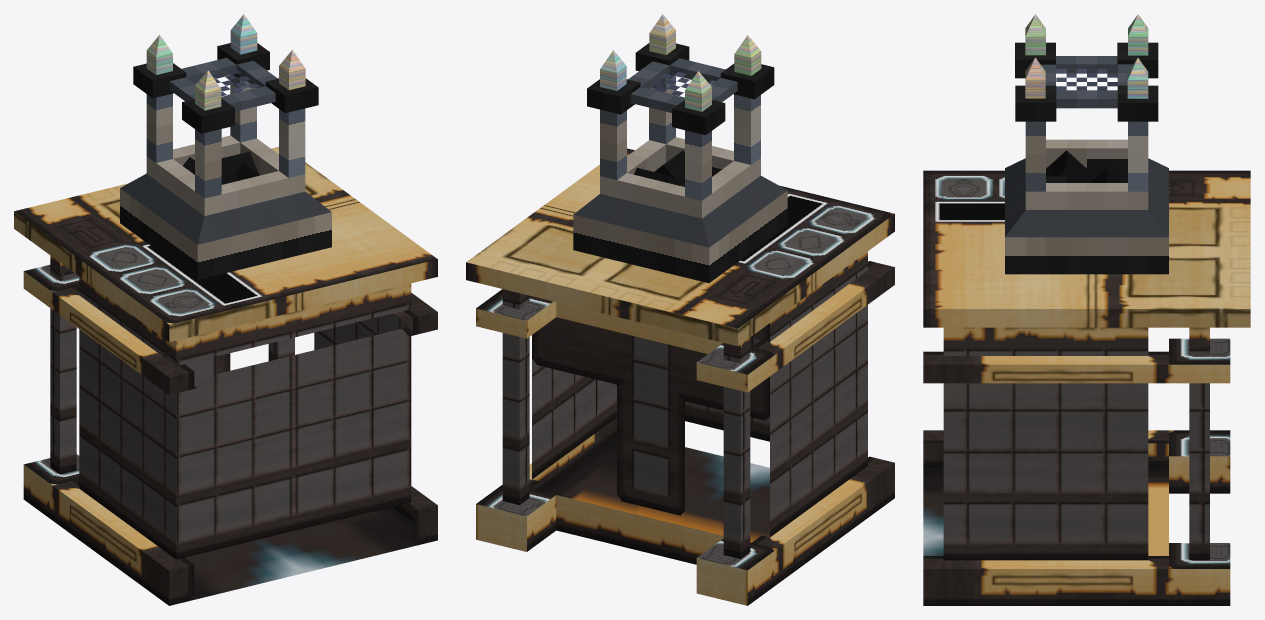
File: station_fumefilter_inventory.obj
3 views of the same model, side by side, from view 1: azimuth 30°, elevation 25°; view 2: azimuth 150°, elevation 25°; view 3: azimuth 270°, elevation 25° (orthographic). The views are drawn at different scales.
Parts seen in each view (by area): view 1: DESK_SINGLE_MAIN.006, FUMEFILTER_Cube.005, COAL_Cube.006; view 2: DESK_SINGLE_MAIN.006, FUMEFILTER_Cube.005, COAL_Cube.006; view 3: DESK_SINGLE_MAIN.006, FUMEFILTER_Cube.005, COAL_Cube.006.
Part boxes in pixels (x1,y1,x2,y2): DESK_SINGLE_MAIN.006: (14,146,437,605); FUMEFILTER_Cube.005: (120,14,331,279); COAL_Cube.006: (183,151,259,184); DESK_SINGLE_MAIN.006: (466,148,894,605); FUMEFILTER_Cube.005: (573,14,787,283); COAL_Cube.006: (634,150,721,186); DESK_SINGLE_MAIN.006: (923,170,1250,605); FUMEFILTER_Cube.005: (1005,14,1168,274); COAL_Cube.006: (1046,150,1127,182).
Size of the model in its own units: 1 by 1.69 by 1.
